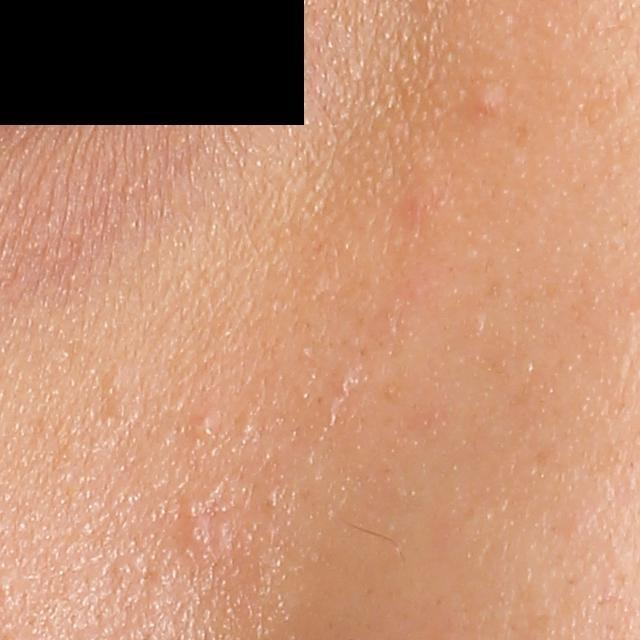comedo: (178, 522, 207, 553), (187, 415, 217, 442)
